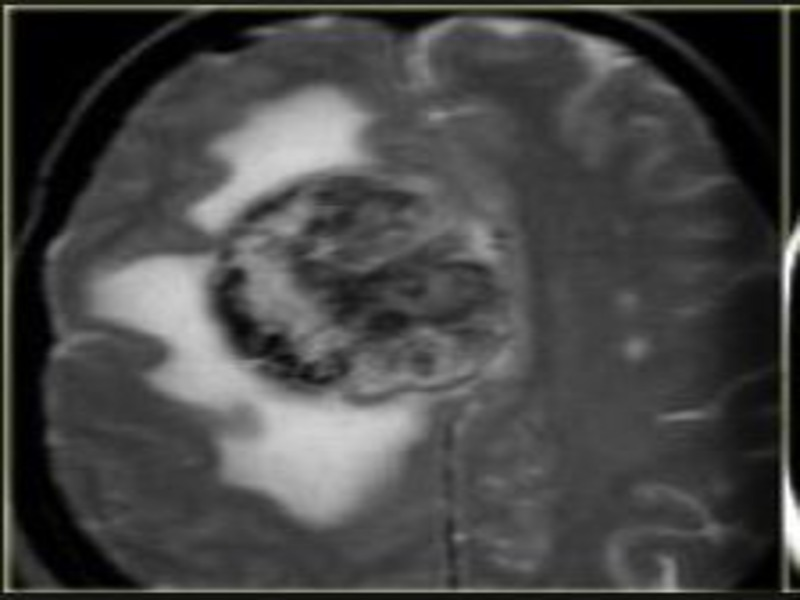tumor: (192, 75, 416, 247)
